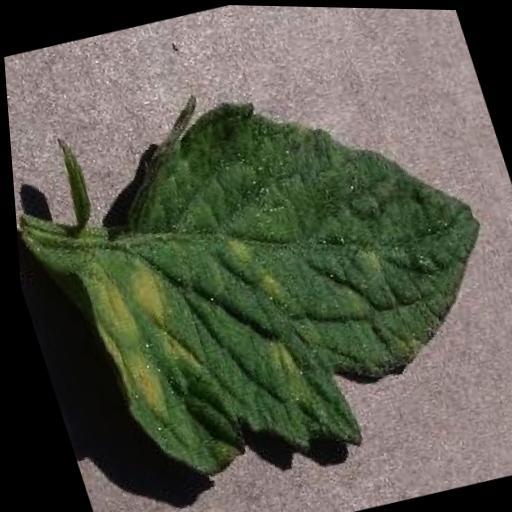Leaf Mold: (22, 27, 512, 496)
